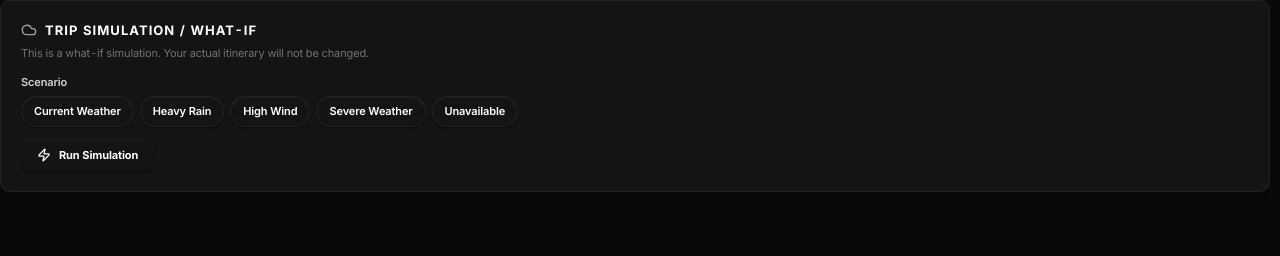
Test: SimulationSection › shows service not found message for 404 Not Found
This screenshot has width=1280, height=256.
Click the button "Run Simulation" at (88, 155), box [21,139,154,171]
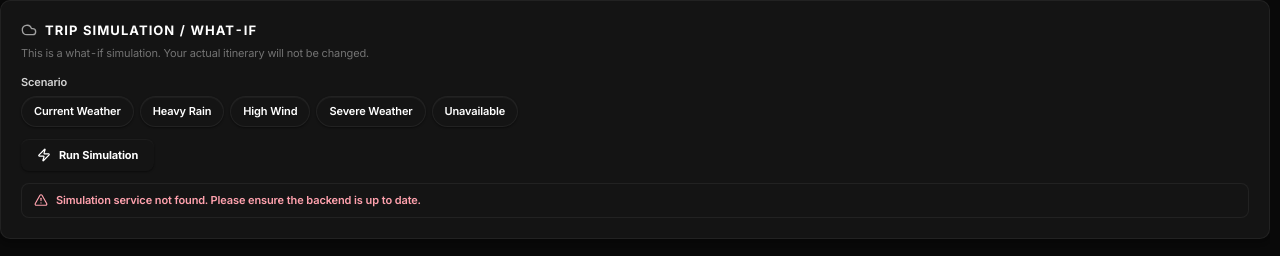
Result: the text "Simulation service not found. Please ensure the backend is up to date." is shown at [56,192,420,209]
